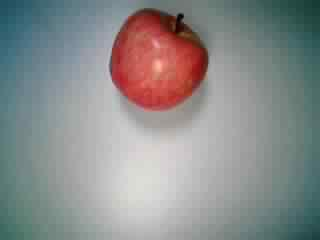apple: (108, 9, 213, 111)
